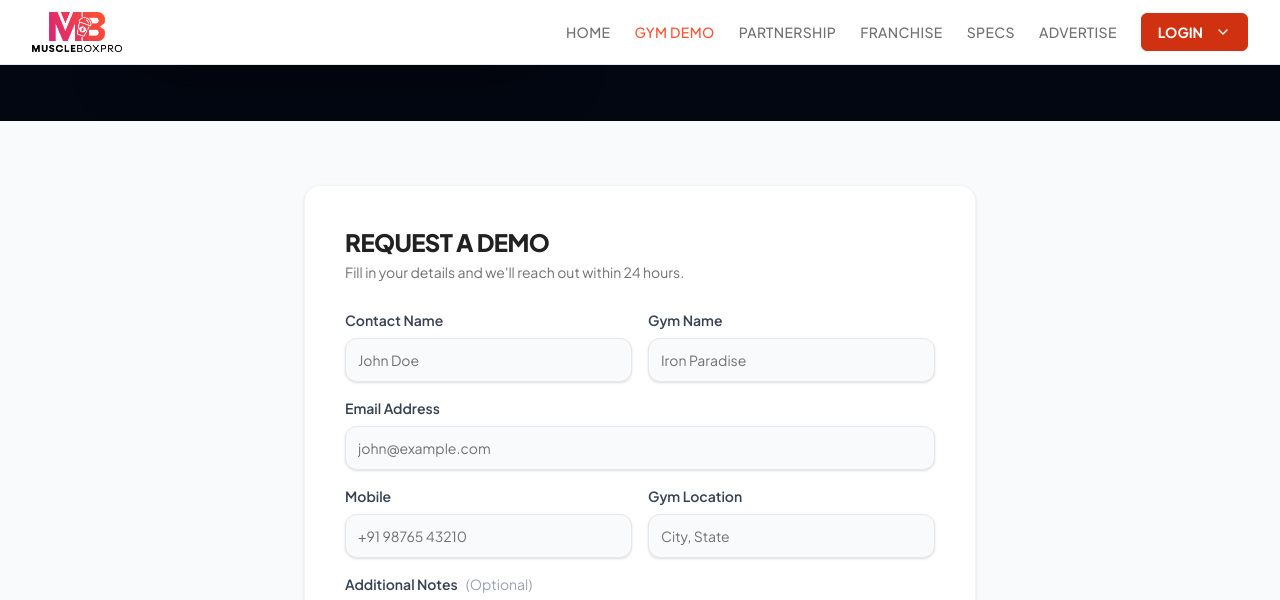
Test: GymDemo page › shows error notice when edge function returns error
(page scrolled)
Type "John Smith" into the field with placeholder "John Doe" at {"x": 488, "y": 360}, box x1=345 y1=338 x2=632 y2=382
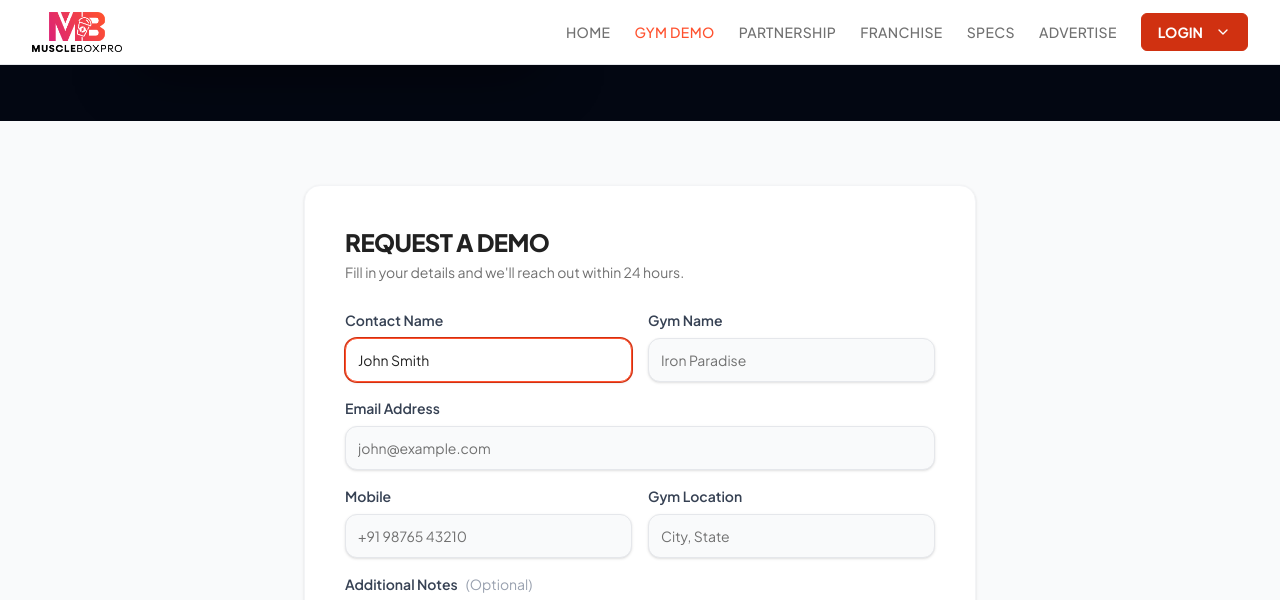
Type "Power Gym" into the field with placeholder "Iron Paradise" at {"x": 792, "y": 360}, box x1=648 y1=338 x2=935 y2=382
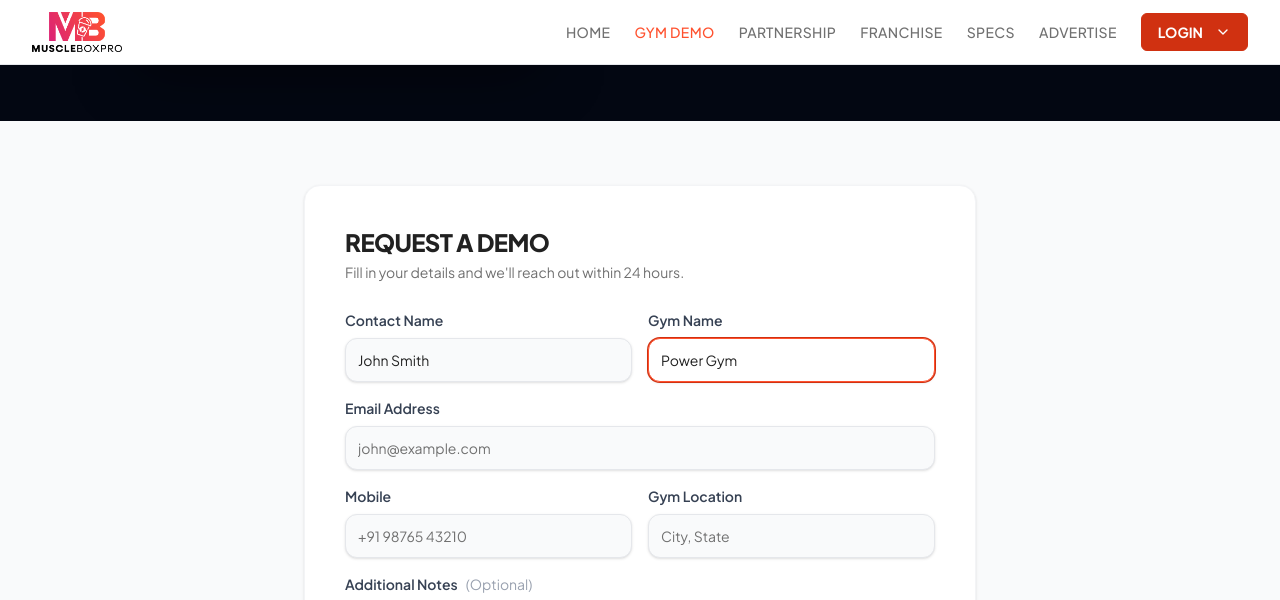
Type "john@gym.com" into the field with placeholder "john@example.com" at {"x": 640, "y": 448}, box x1=345 y1=426 x2=935 y2=470
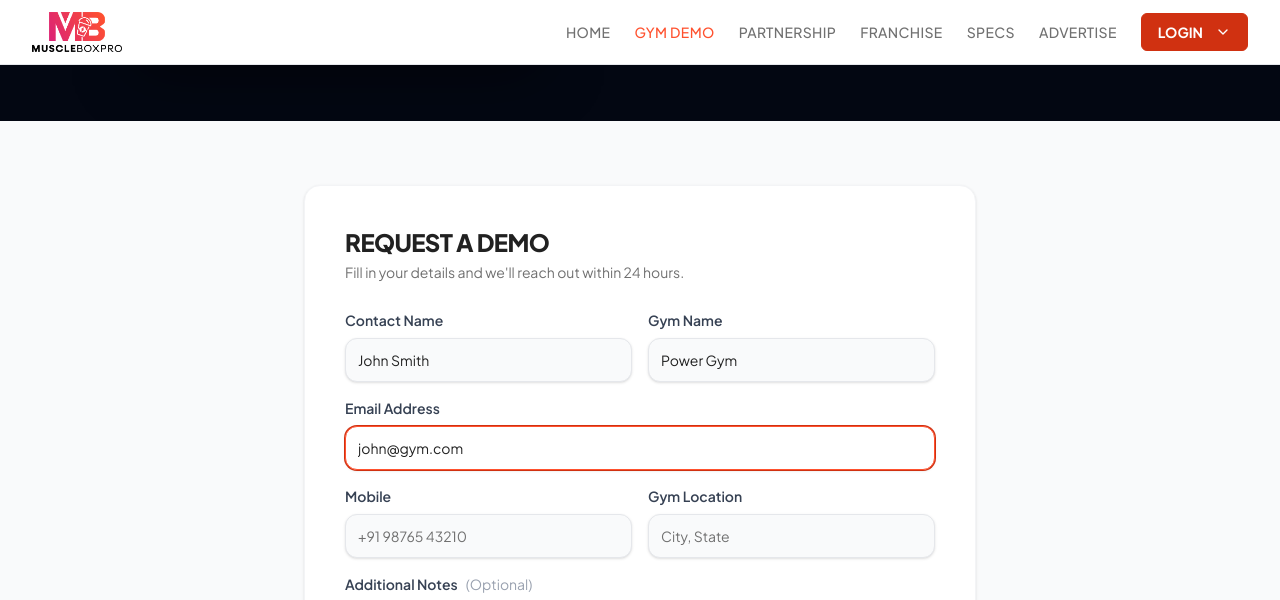
Type "9876543210" into the field with placeholder "+91 98765 43210" at {"x": 488, "y": 536}, box x1=345 y1=514 x2=632 y2=558
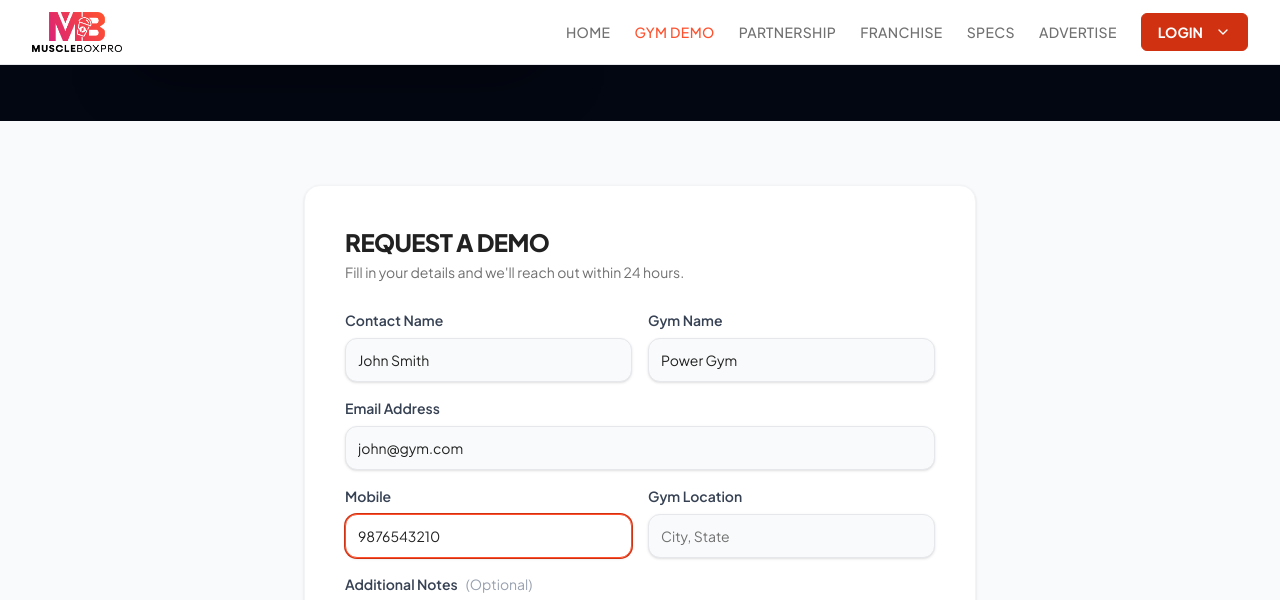
Type "Delhi" into the field with placeholder "City, State" at {"x": 792, "y": 536}, box x1=648 y1=514 x2=935 y2=558
(page scrolled)
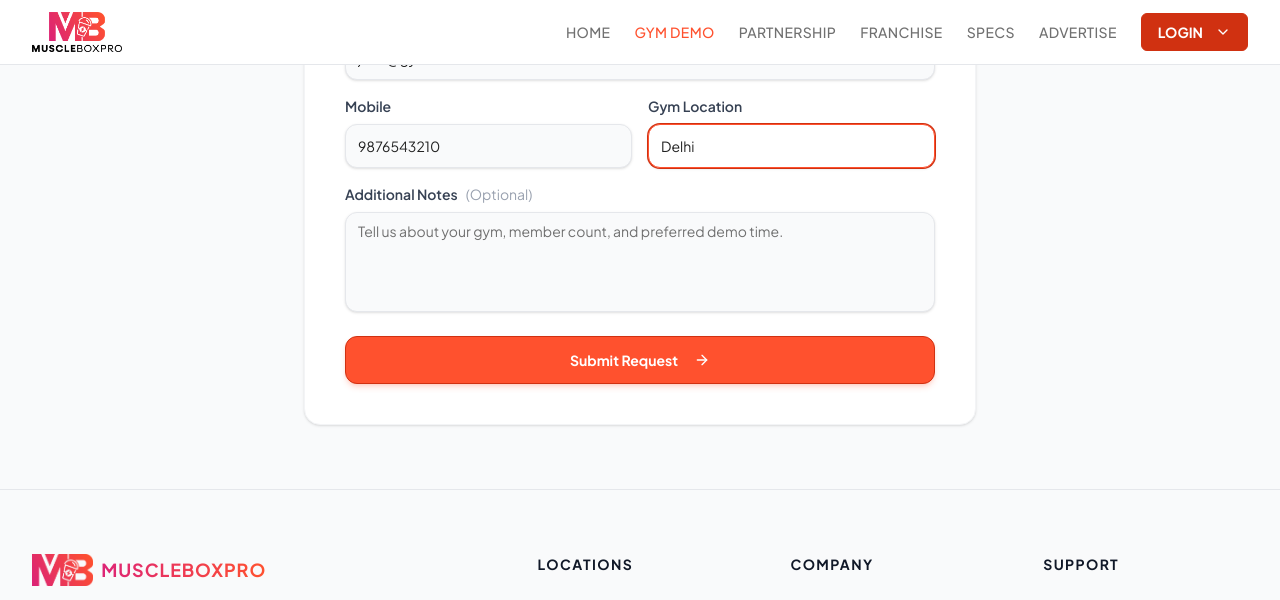
Click the button "Submit Request" at {"x": 640, "y": 360}, box x1=345 y1=336 x2=935 y2=384
(page scrolled)
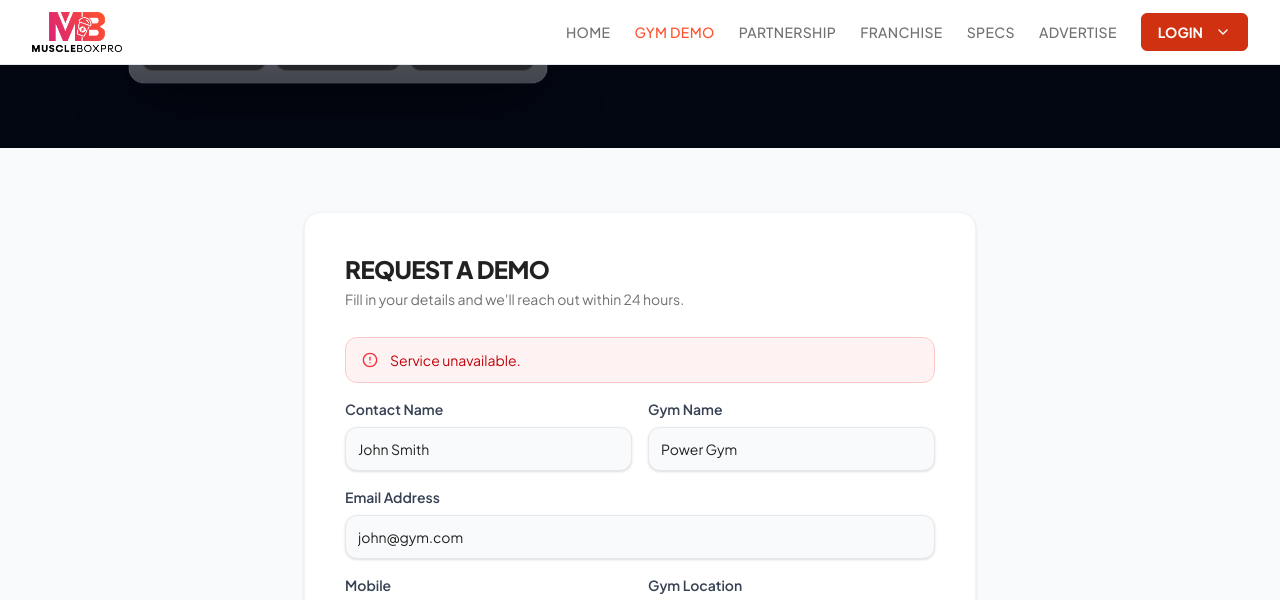
Expected: the text "Service unavailable." is shown, x1=390 y1=350 x2=521 y2=370
